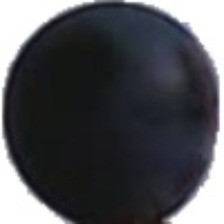grapes: (61, 45, 205, 180)
